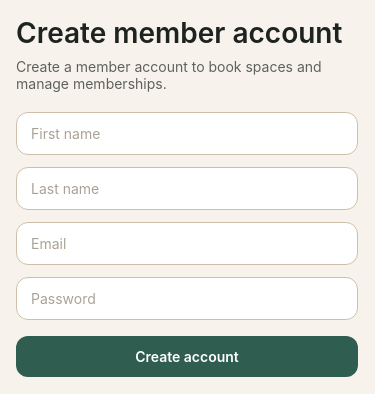
Test: RegisterScreen › shows the email verification step when Clerk requires it
Type "Avery" into the field with placeholder "First name" at x=187, y=134, box left=16, top=112, right=358, bottom=155
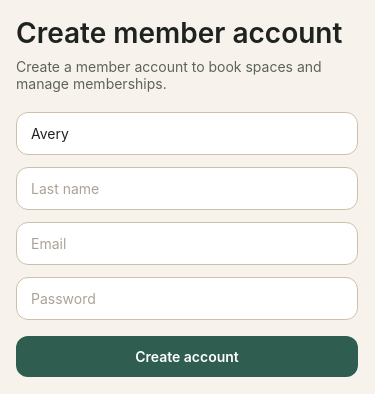
Type "Member" into the field with placeholder "Last name" at x=187, y=188, box left=16, top=167, right=358, bottom=210
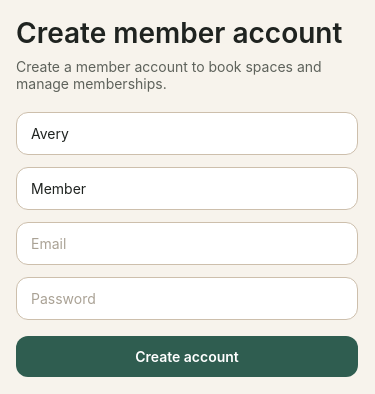
Type "avery@example.com" into the field with placeholder "Email" at x=187, y=244, box left=16, top=222, right=358, bottom=265
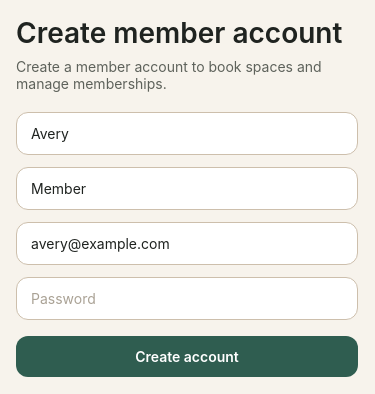
Type "Password123!" into the password field with placeholder "Password" at x=187, y=298, box left=16, top=277, right=358, bottom=320
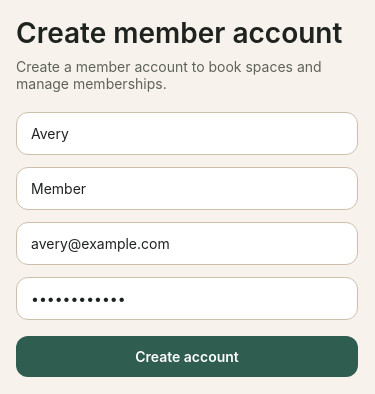
Click the text "Create account" at x=187, y=356, box left=135, top=348, right=239, bottom=365
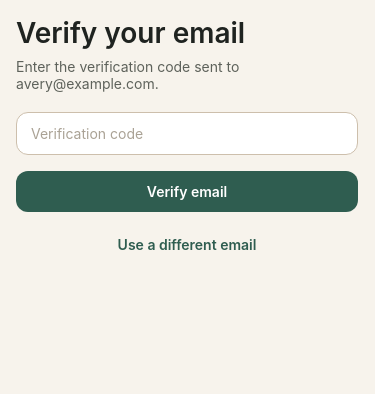
Expected: the text "Verify your email" is shown, left=16, top=16, right=245, bottom=50
Expected: the field with placeholder "Verification code" is shown, left=16, top=112, right=358, bottom=155
